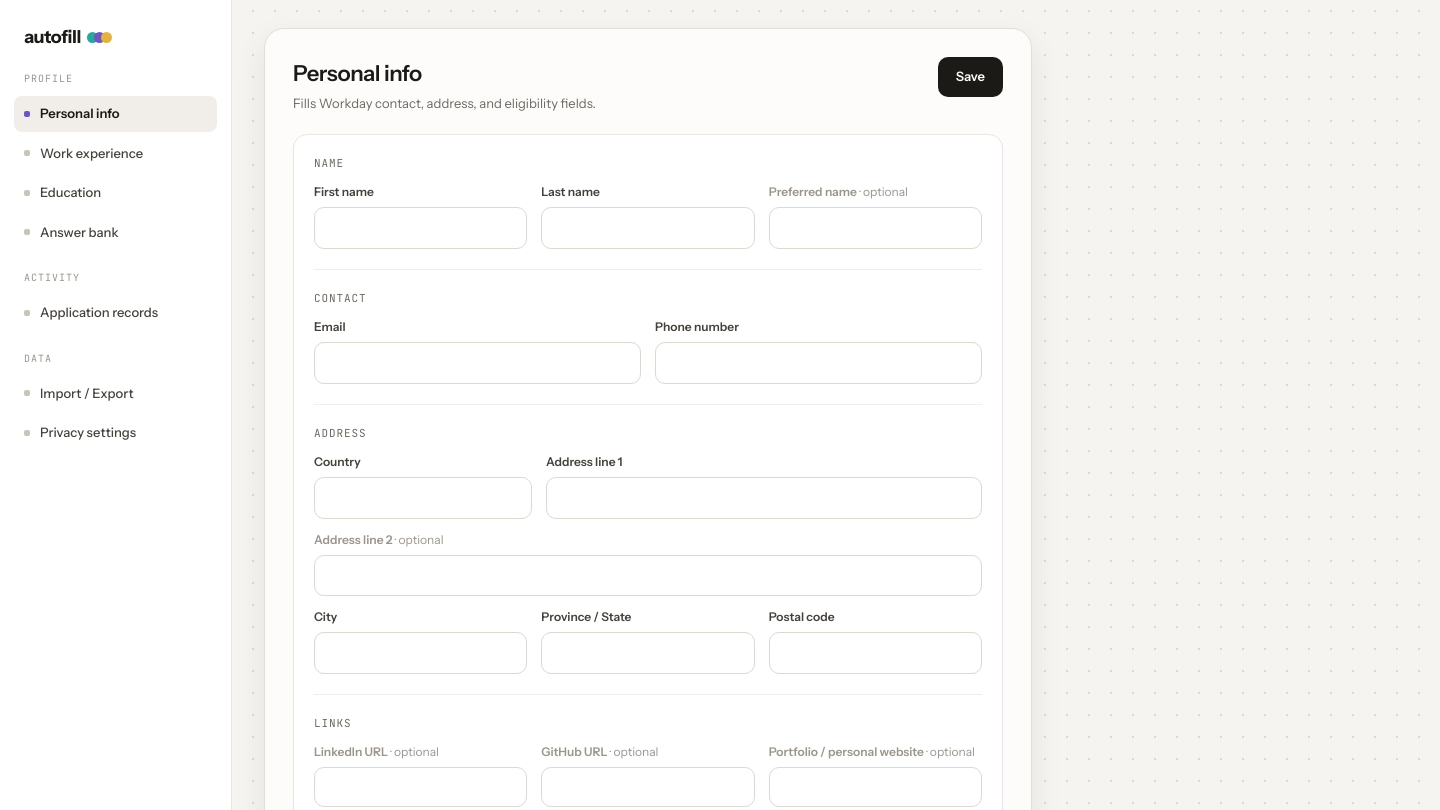
Test case: App › shows the import/export tab
Click the button "Import / Export".
click(116, 393)  # box [14, 376, 217, 411]
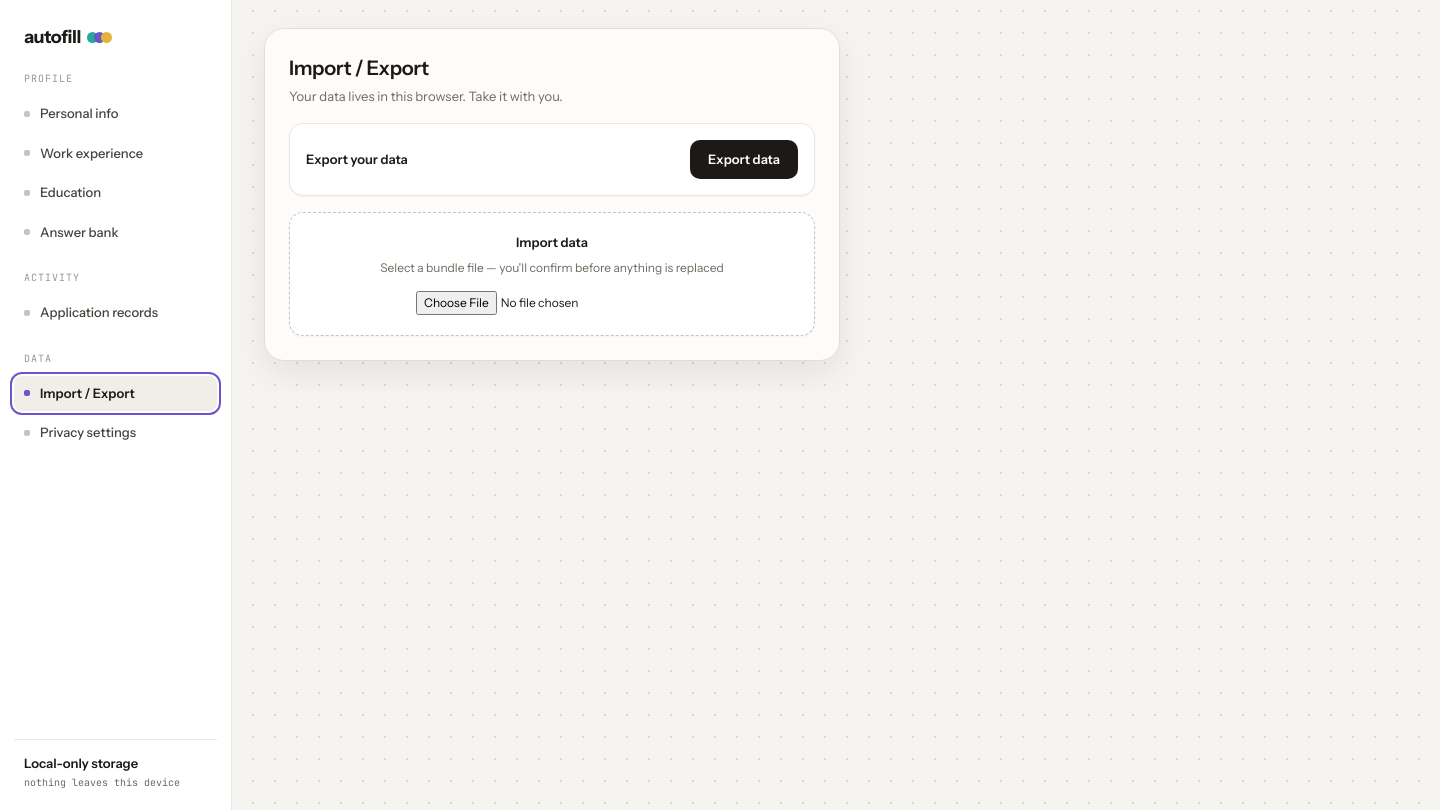
Expected: the button "Export data" is shown, [690, 140, 798, 179]
